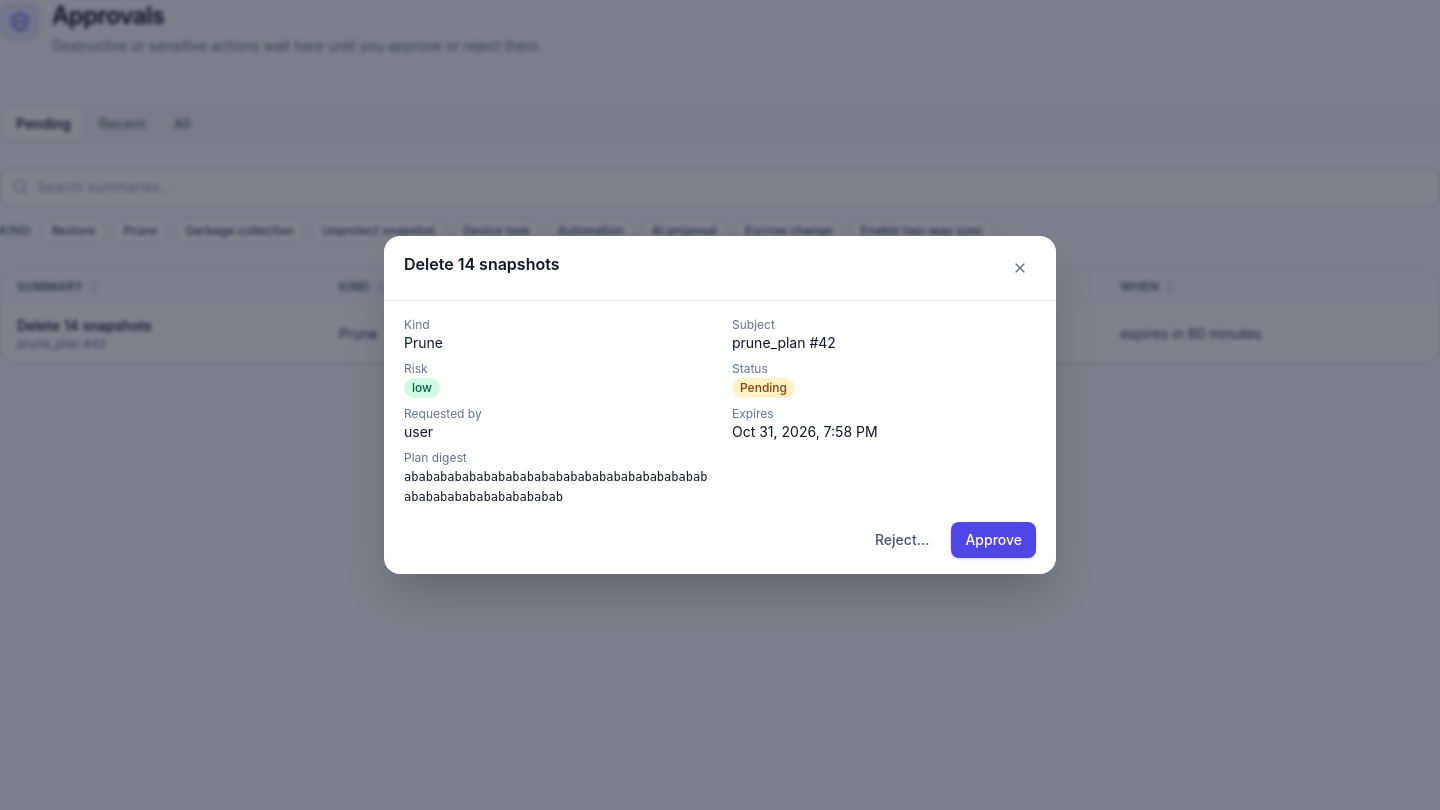
ApprovalsPage › rejects with a reason
Step 1. Click the button "Reject…" → [902, 540], box [861,522,944,558]
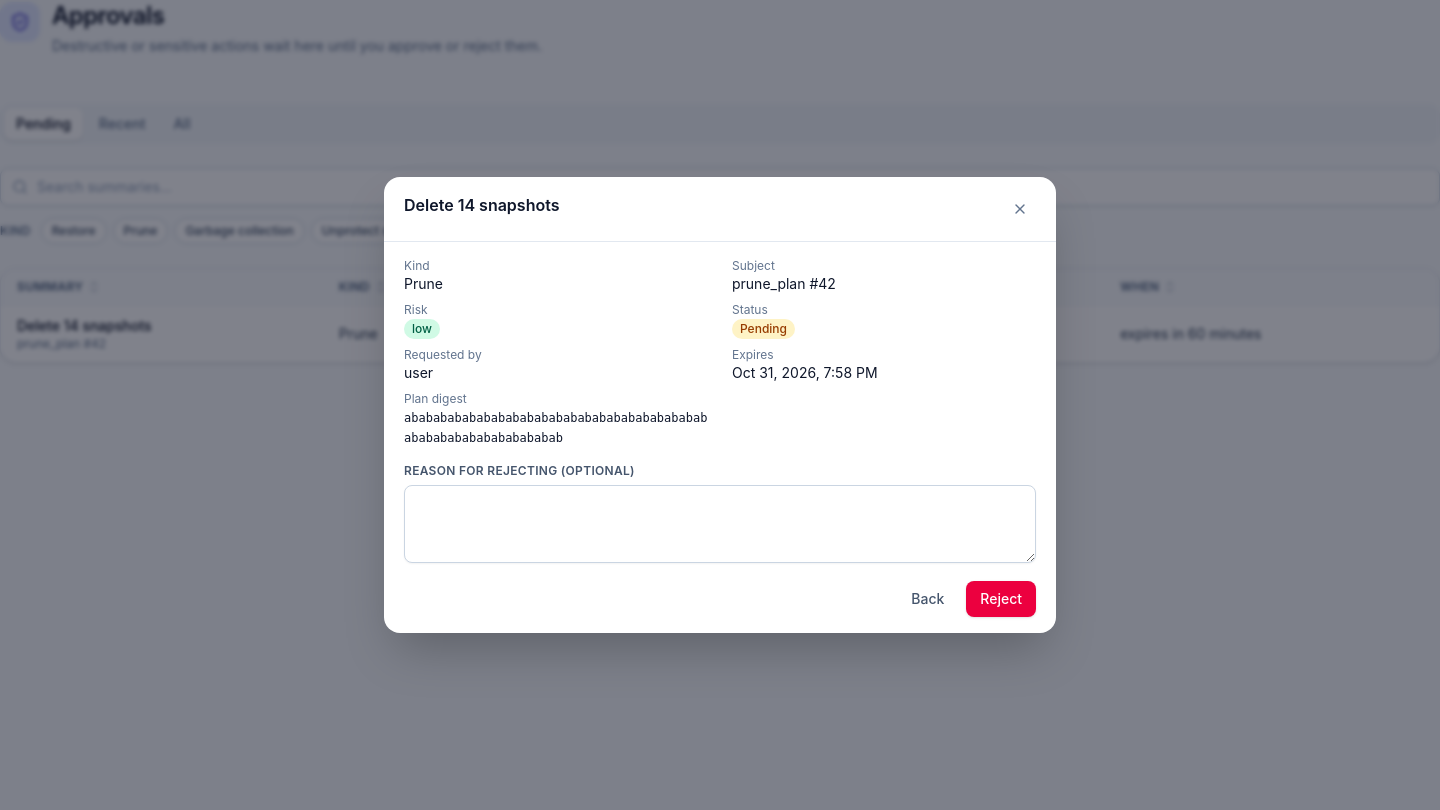
Step 2. Type "not now" into the text box labelled "Reason" → [720, 524], box [404,485,1036,563]
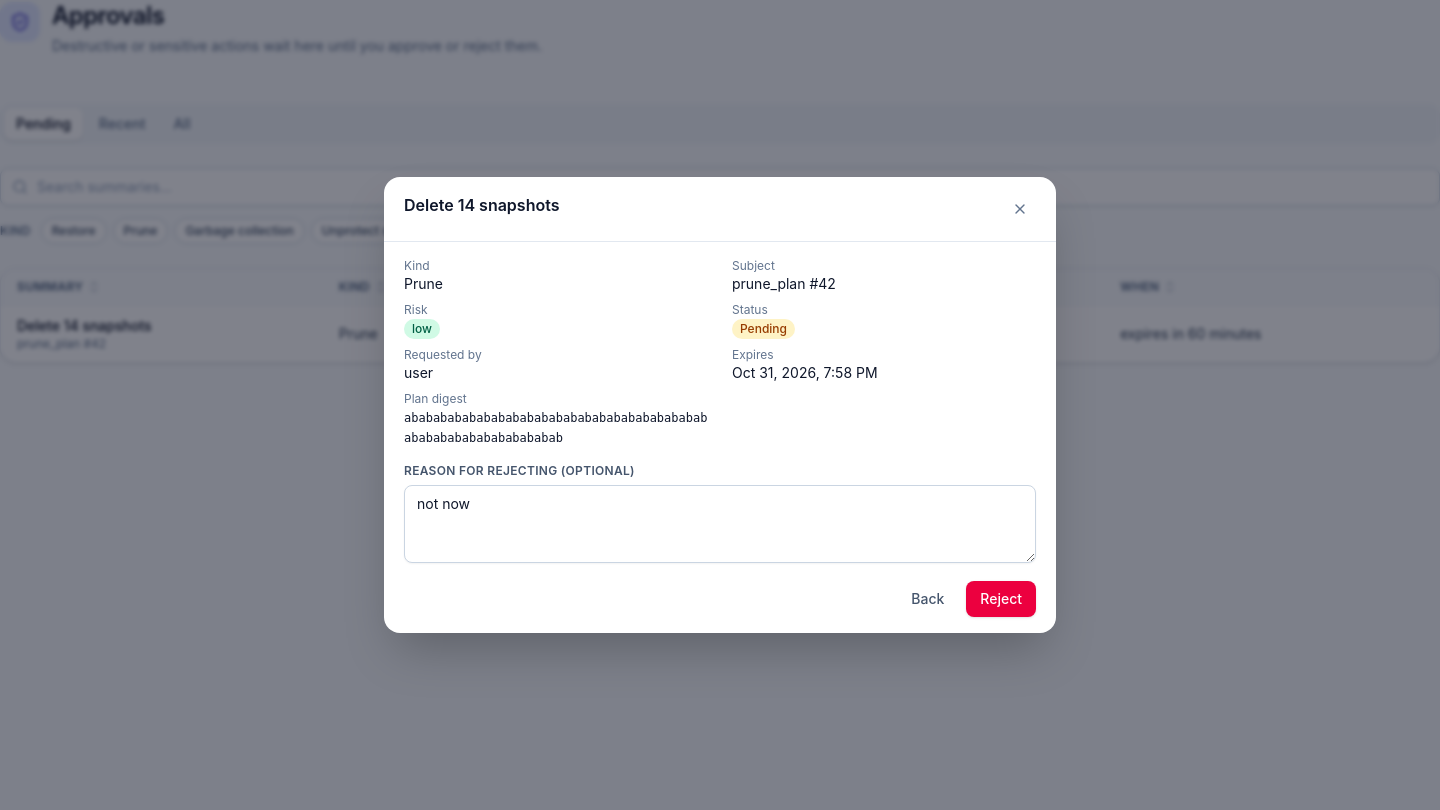
Step 3. Click the button "Reject" → [1001, 599], box [966,581,1036,617]
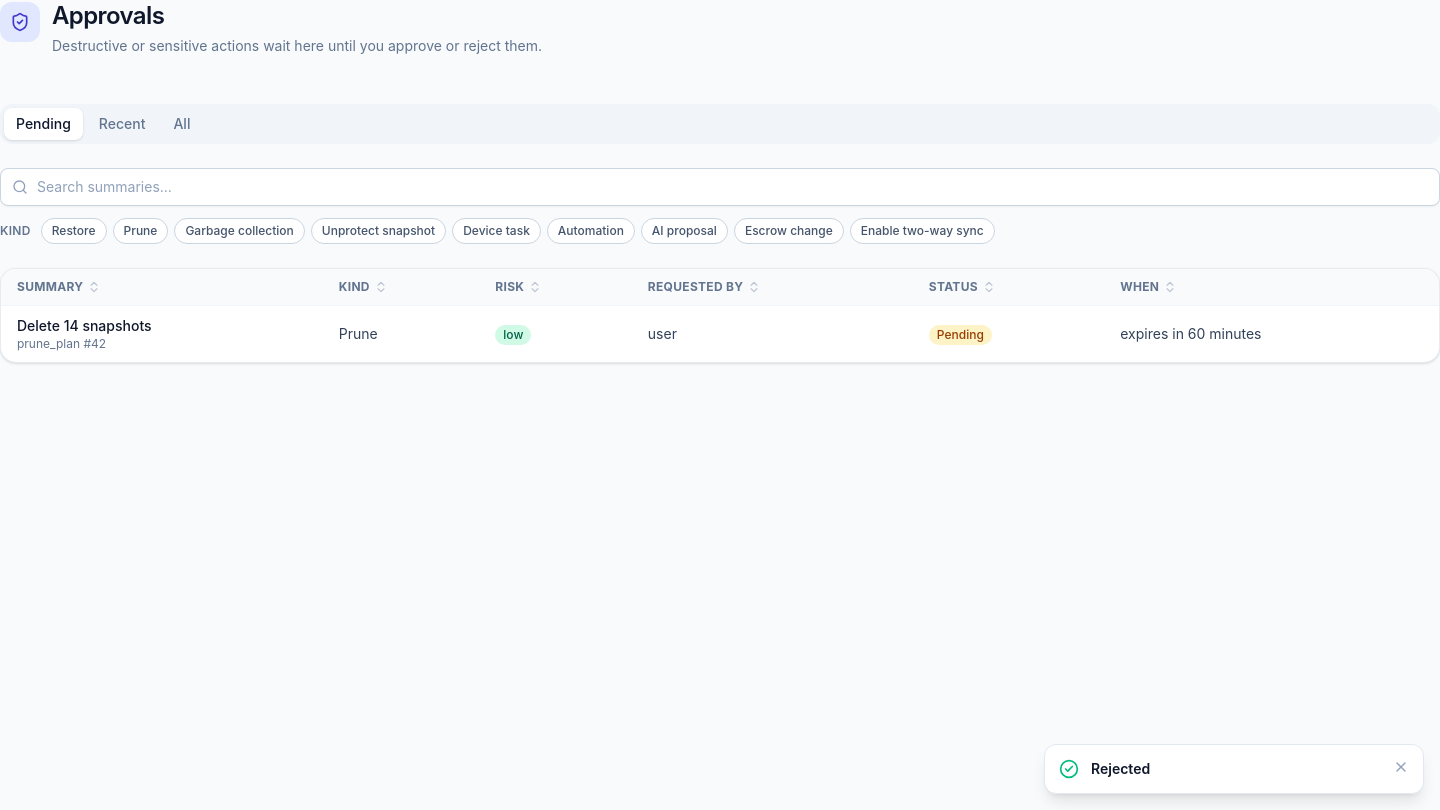
Expected: the dialog is gone
